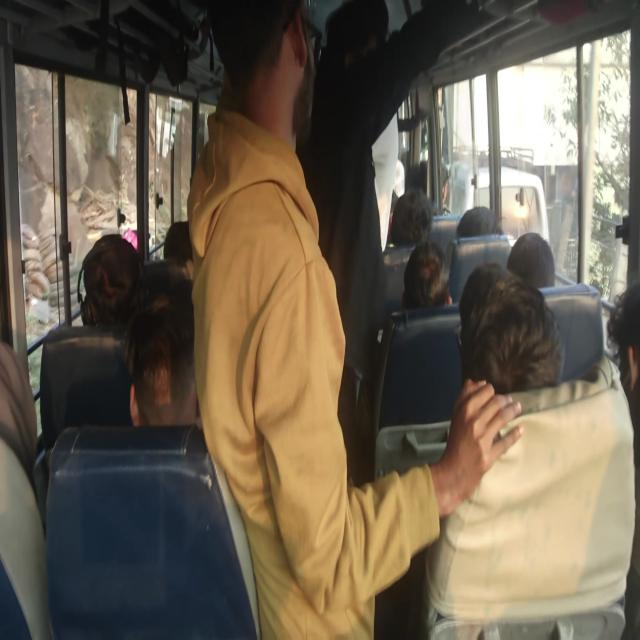person: (186, 0, 525, 638), (0, 340, 52, 638), (458, 261, 564, 395), (124, 295, 200, 428), (77, 232, 143, 327), (402, 240, 452, 310), (506, 231, 555, 289), (388, 186, 434, 246), (162, 219, 194, 280), (456, 205, 503, 238)
